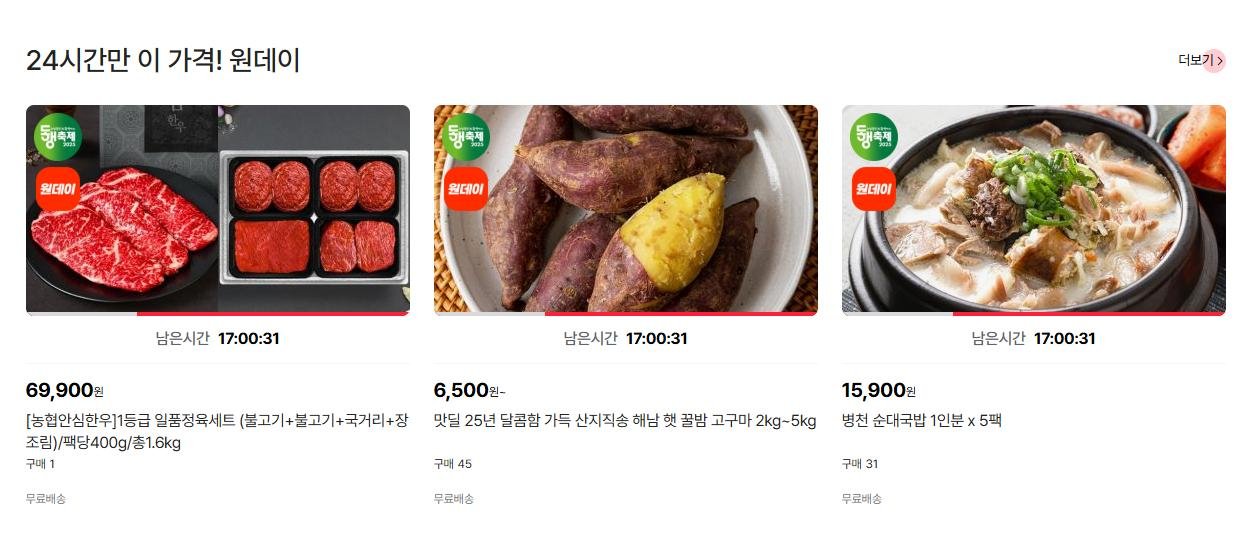button: (25, 100, 414, 363), (432, 102, 819, 364), (840, 102, 1227, 363), (1155, 44, 1237, 79)
